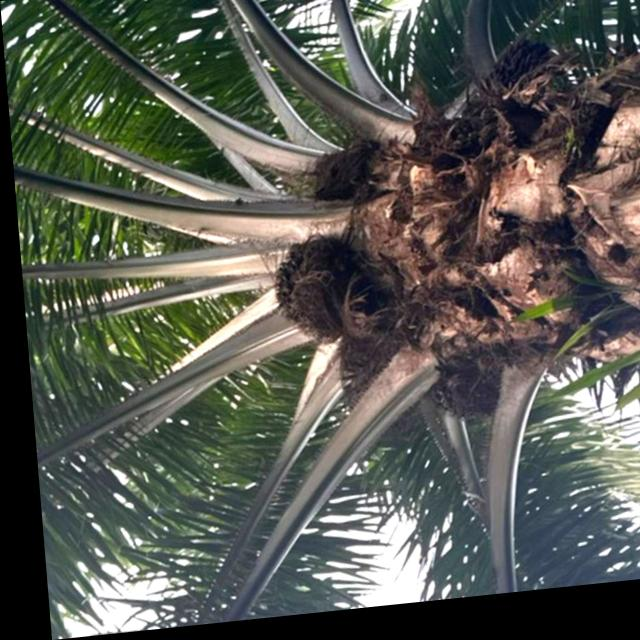unripe: (262, 234, 355, 357), (416, 363, 496, 445)
